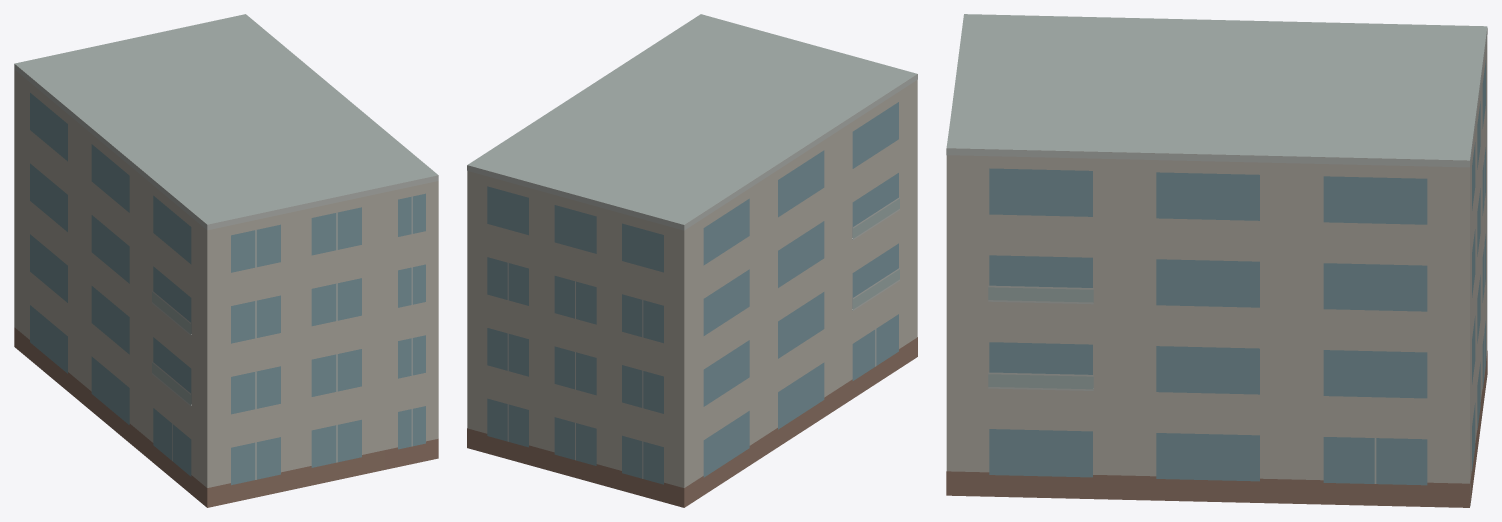
Rendered from residential-118be386-e189-4b41-9774-b1a36ead01c7.glb.
3 views of the same model, side by side, from view 1: azimuth 30°, elevation 25°; view 2: azimuth 150°, elevation 25°; view 3: azimuth 270°, elevation 25° (orthographic). The views are drawn at different scales.
Visible parts, largest first — view 1: residential-118be386-e189-4b41-9774-b1a36ead01c7.tmp; view 2: residential-118be386-e189-4b41-9774-b1a36ead01c7.tmp; view 3: residential-118be386-e189-4b41-9774-b1a36ead01c7.tmp.
Part boxes in pixels (<box>): residential-118be386-e189-4b41-9774-b1a36ead01c7.tmp: <box>14,14,438,507</box>; residential-118be386-e189-4b41-9774-b1a36ead01c7.tmp: <box>467,14,917,507</box>; residential-118be386-e189-4b41-9774-b1a36ead01c7.tmp: <box>946,14,1487,507</box>.
Size of the model in its own units: 11.05 by 12.2 by 17.23.
